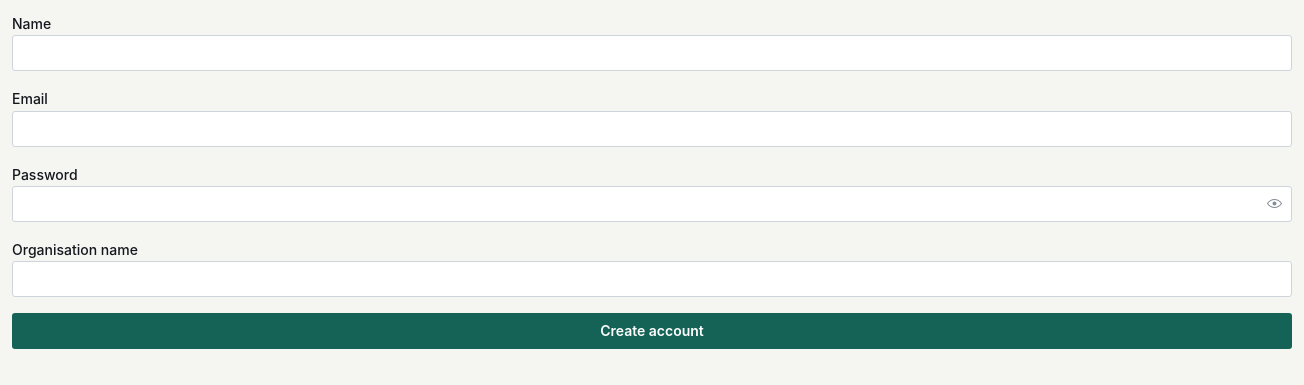
Scenario: SignUpForm › blocks submission and shows a visible error when the password is under 8 characters
The width and height of the screenshot is (1304, 385).
Type "Priya Rao" into the field labelled "Name" at (652, 53), box [12,35,1292,71]
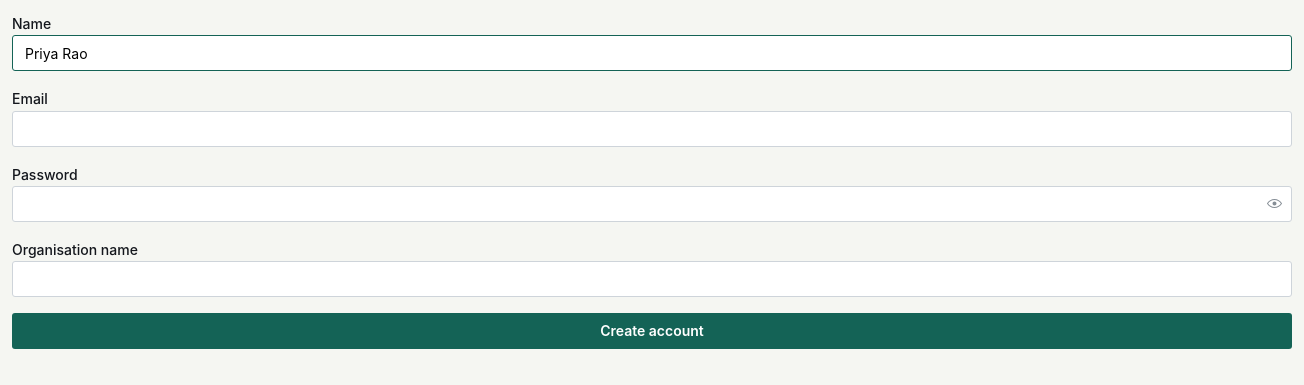
Type "priya@acme.com" into the field labelled "Email" at (652, 128), box [12,110,1292,146]
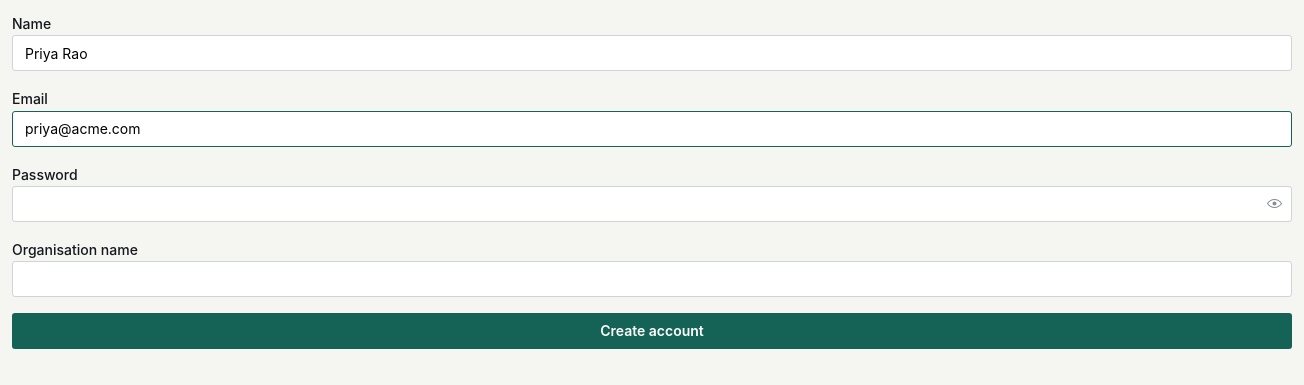
Type "short" into the password field labelled "Password" at (652, 204), box [13,187,1291,221]
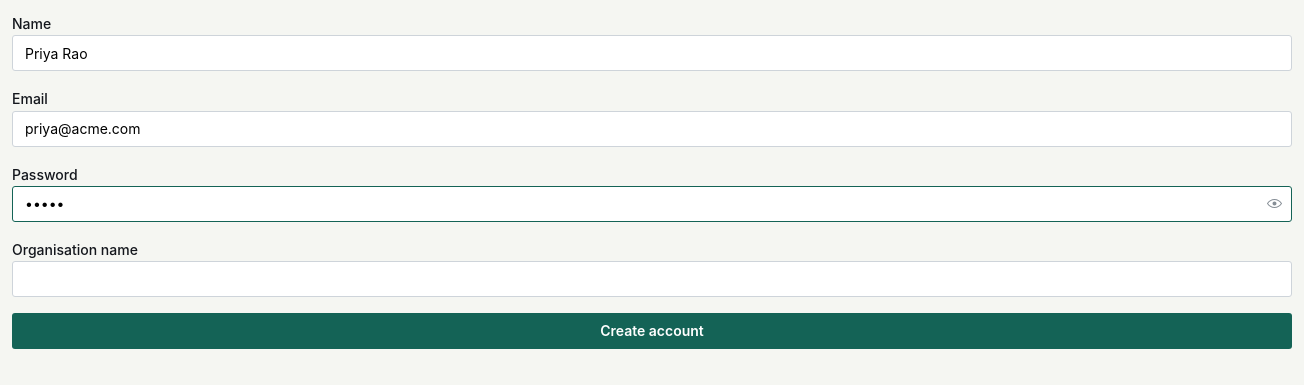
Type "ACME" into the field labelled "Organisation name" at (652, 279), box [12,261,1292,297]
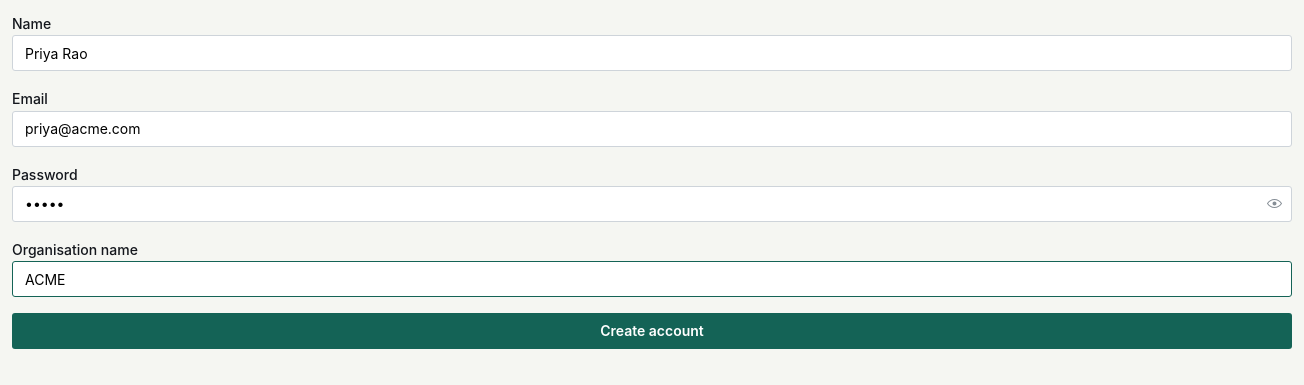
Click the button "Create account" at (652, 331), box [12,313,1292,349]
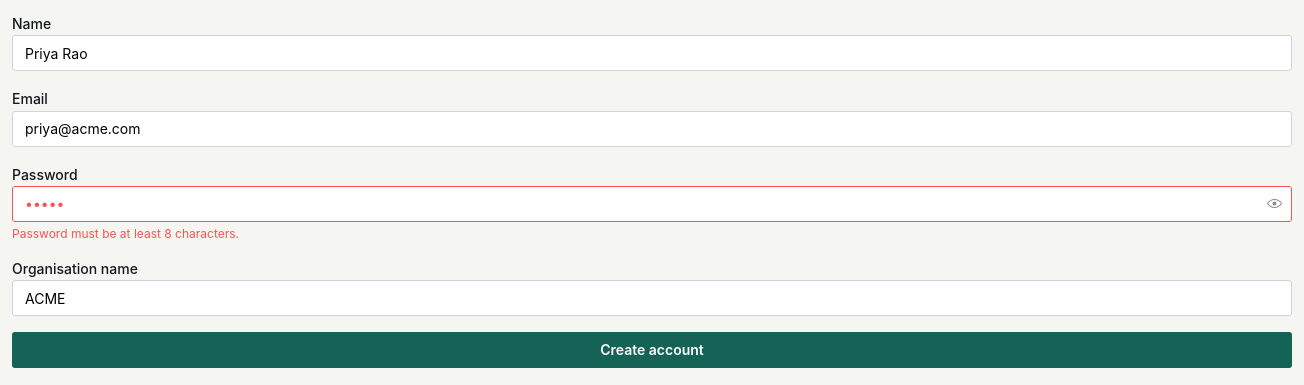
Check: the text "Password must be at least 8 characters." is shown, box [12,226,239,241]
